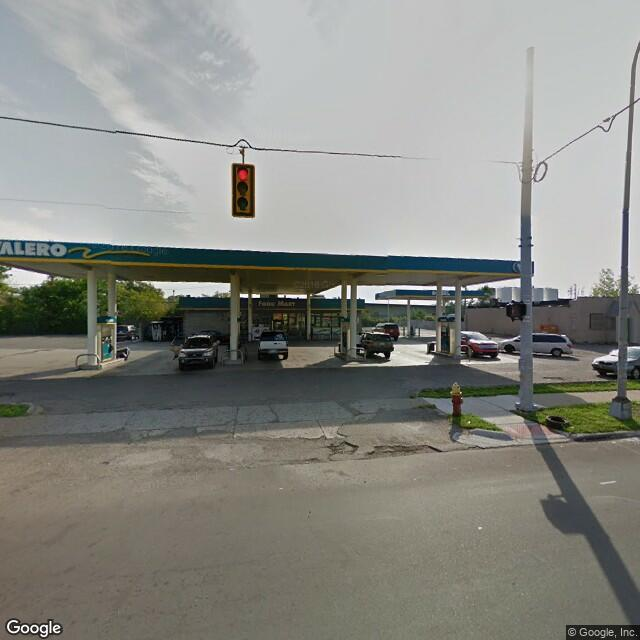litter: (461, 416, 477, 428)
